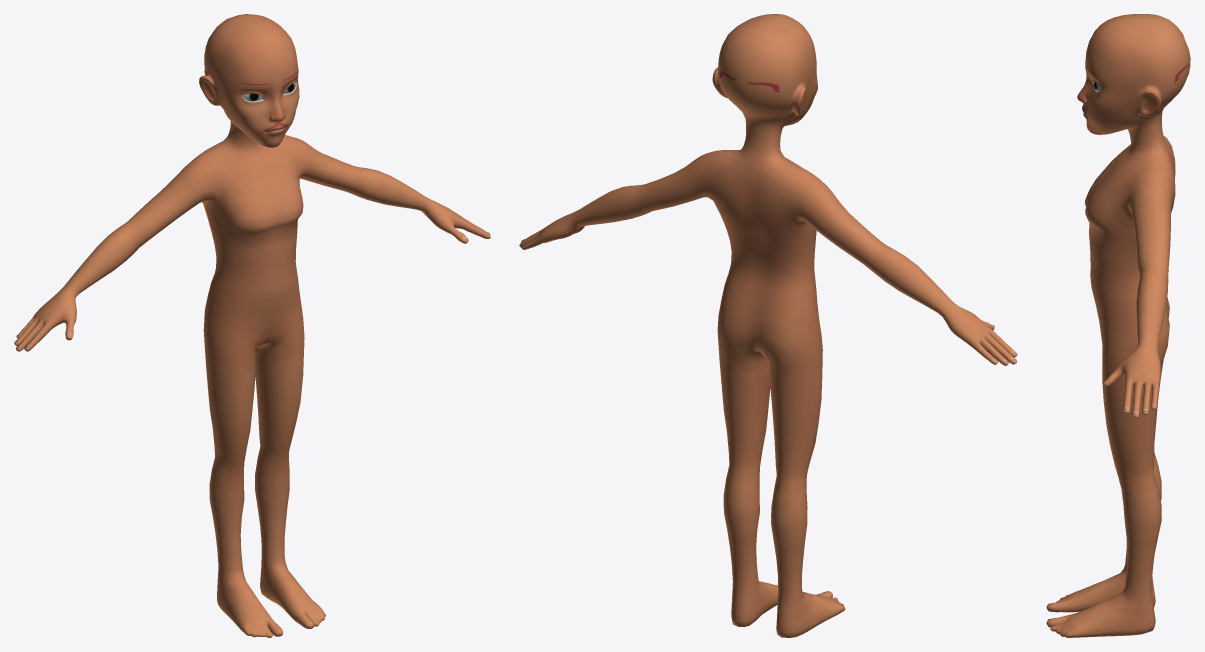
Rendered from frame_0002.glb.
3 renders of one model, left to right at view 1: azimuth 30°, elevation 25°; view 2: azimuth 150°, elevation 25°; view 3: azimuth 270°, elevation 25°, orthographic. The views are drawn at different scales.
Visible parts, largest first — view 1: frame_0002_head_geo; view 2: frame_0002_head_geo; view 3: frame_0002_head_geo.
Boxes of the visible parts, <box> form: frame_0002_head_geo: <box>14,14,490,637</box>; frame_0002_head_geo: <box>519,14,1017,637</box>; frame_0002_head_geo: <box>1046,14,1190,637</box>.
Size of the model in its own units: 1.28 by 1.5 by 0.3253.
Materials: 4 (2 with a texture image).
